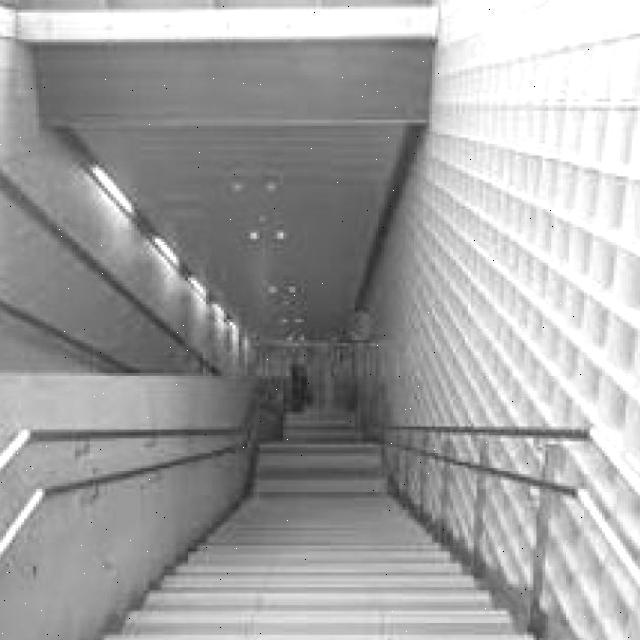stair: (126, 522, 479, 640)
